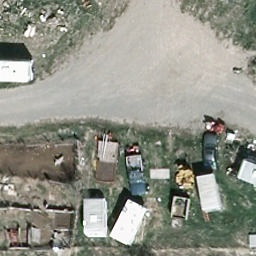camping car: (110, 202, 146, 247), (84, 198, 109, 237), (196, 174, 222, 210), (0, 60, 36, 81)
car: (201, 131, 220, 168)
pickup: (125, 155, 147, 195)
